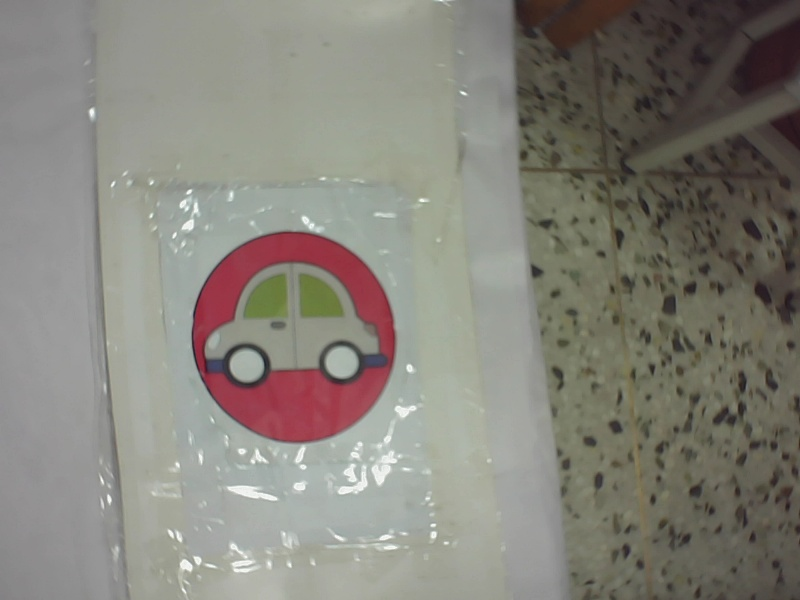areaC: (184, 225, 407, 450)
